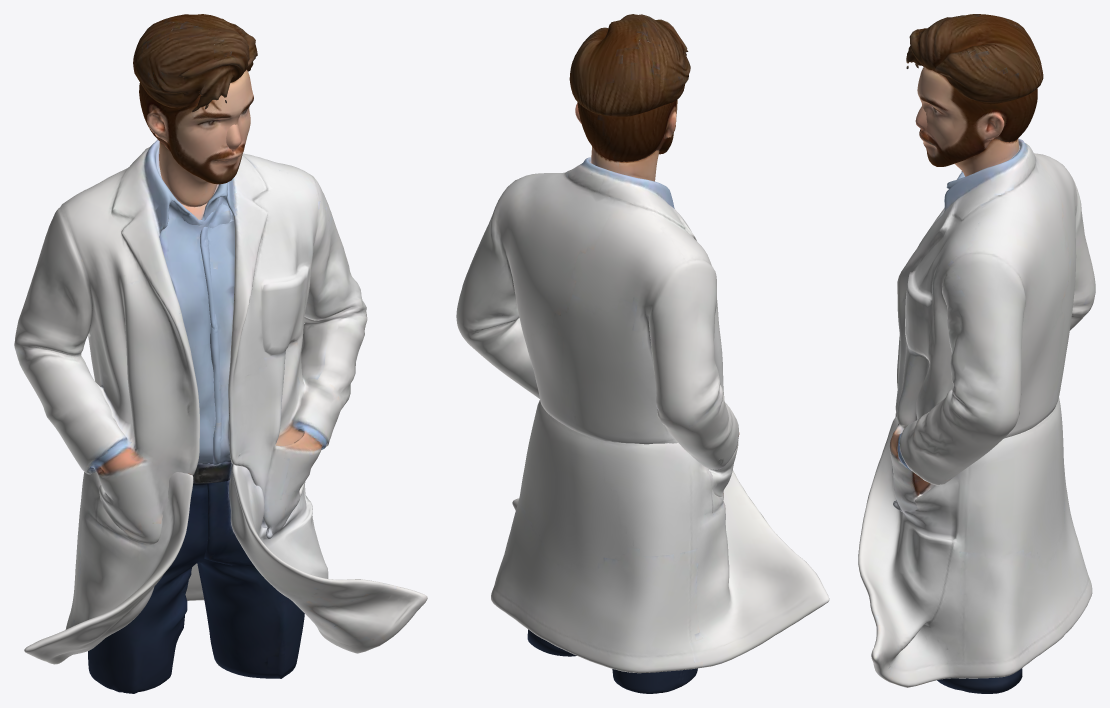
File: coat-parts.glb
3 views of the same model, side by side, from view 1: azimuth 30°, elevation 25°; view 2: azimuth 150°, elevation 25°; view 3: azimuth 270°, elevation 25° (orthographic). The views are drawn at different scales.
Visible parts, largest first — view 1: root.0.0.0, root.0.0.1, root.0.1, root.1, root.2, root.0.0.2, root.3, root.0.0.3, root.0.3; view 2: root.0.0.0, root.0.0.1, root.1, root.2, root.0.1, root.3; view 3: root.0.0.0, root.0.0.1, root.1, root.2, root.3, root.0.1.
Part boxes in pixels (x1,y1,x2,y2): root.0.0.0: (14, 139, 367, 544); root.0.0.1: (24, 464, 427, 664); root.0.1: (88, 182, 304, 693); root.1: (133, 14, 257, 108); root.2: (139, 69, 253, 184); root.0.0.2: (204, 480, 254, 567); root.3: (159, 124, 241, 207); root.0.0.3: (210, 314, 221, 464); root.0.3: (200, 227, 215, 329); root.0.0.0: (456, 157, 739, 496); root.0.0.1: (491, 400, 829, 673); root.1: (569, 14, 690, 116); root.2: (575, 99, 677, 161); root.0.1: (527, 629, 697, 693); root.3: (591, 146, 659, 181); root.0.0.0: (889, 138, 1095, 513); root.0.0.1: (858, 397, 1092, 687); root.1: (906, 14, 1043, 104); root.2: (906, 64, 1037, 166); root.3: (915, 106, 1019, 176); root.0.1: (937, 172, 1022, 693).
Size of the model in its own units: 1.11 by 1.89 by 0.6466.
Materials: 1 (1 with a texture image).
